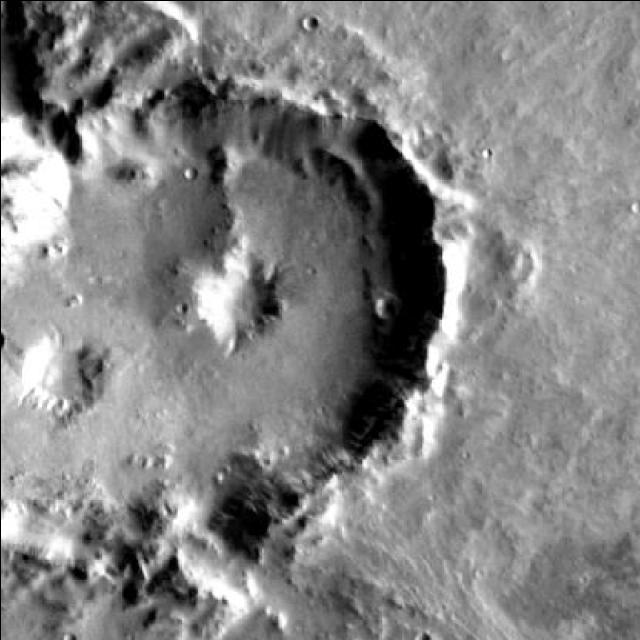crater: (0, 78, 418, 595), (180, 256, 268, 338), (9, 338, 92, 417), (366, 295, 388, 317)
